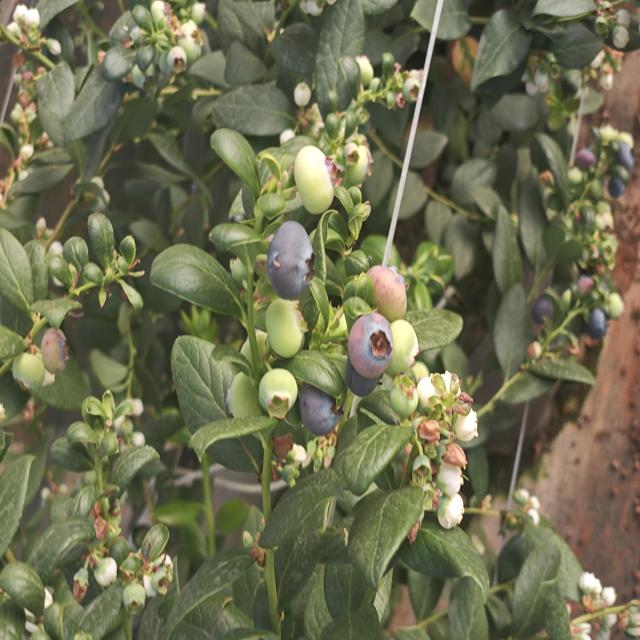ripe: (265, 205, 317, 306), (290, 374, 345, 437), (344, 336, 386, 407), (610, 137, 640, 181), (572, 139, 600, 181), (606, 164, 632, 206), (531, 292, 561, 328), (583, 302, 609, 342)
